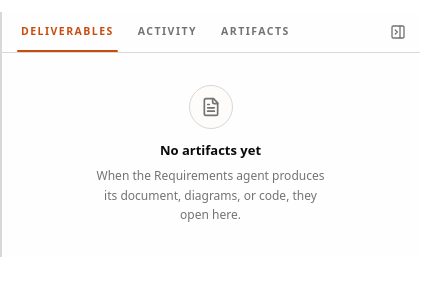
Test case: the project artifacts tab › says when the list could not be read, rather than showing an empty project
This screenshot has width=437, height=287.
Click the tab "Artifacts". click: (255, 32)
box: [209,12,302,52]
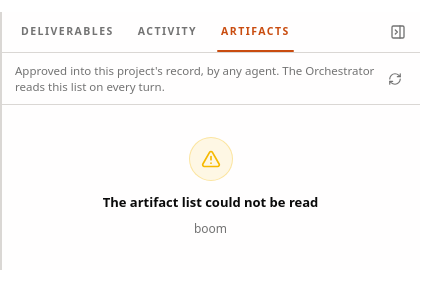
Expected: the heading "The artifact list could not be read" is shown, [103,193,318,213]
